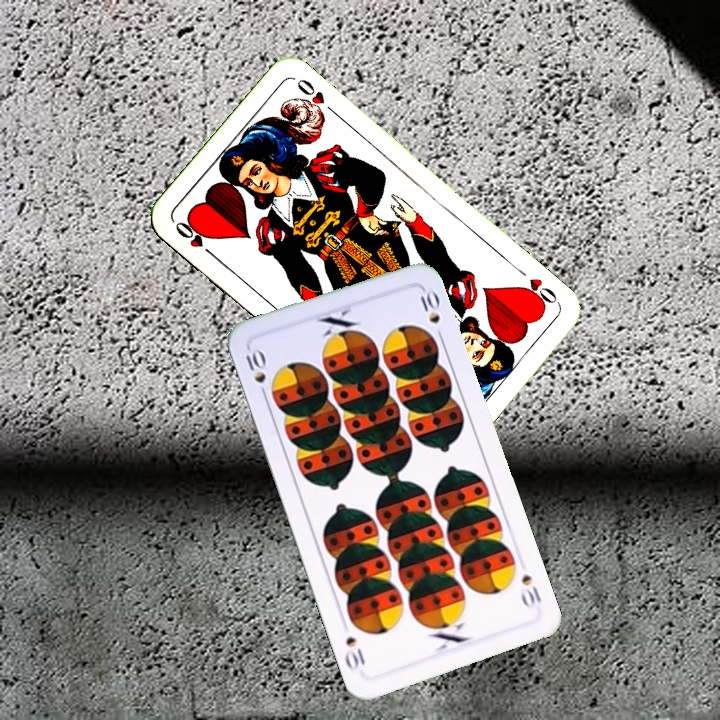HO: (170, 215, 219, 261), (516, 274, 562, 312)
S10: (241, 344, 270, 402), (517, 570, 544, 611)
